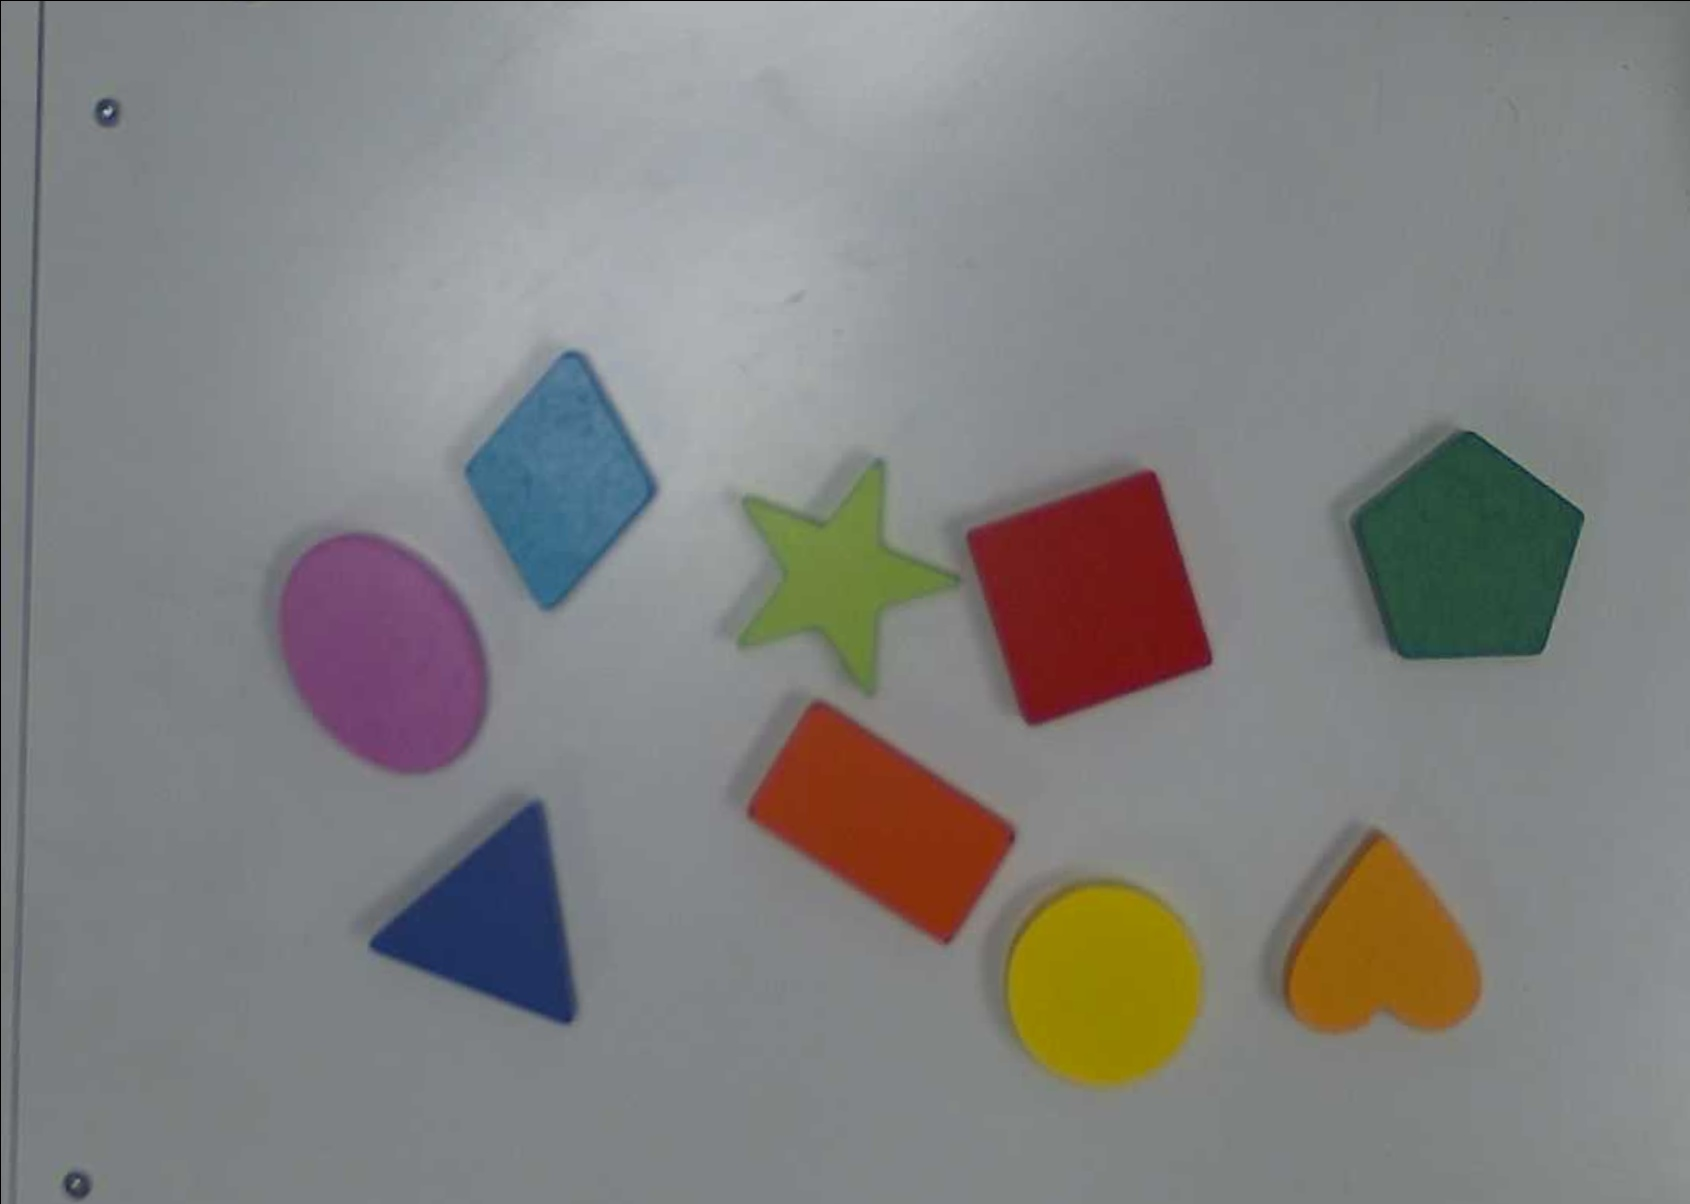Circle: (1005, 885, 1205, 1089)
Ellipse: (278, 534, 487, 774)
Heart: (1286, 834, 1482, 1036)
Parallelogram: (463, 351, 654, 611)
Pentagon: (1350, 431, 1586, 661)
Rectangle: (747, 701, 1016, 947)
Square: (967, 468, 1213, 726)
Star: (735, 459, 960, 693)
Triangle: (366, 800, 575, 1028)
